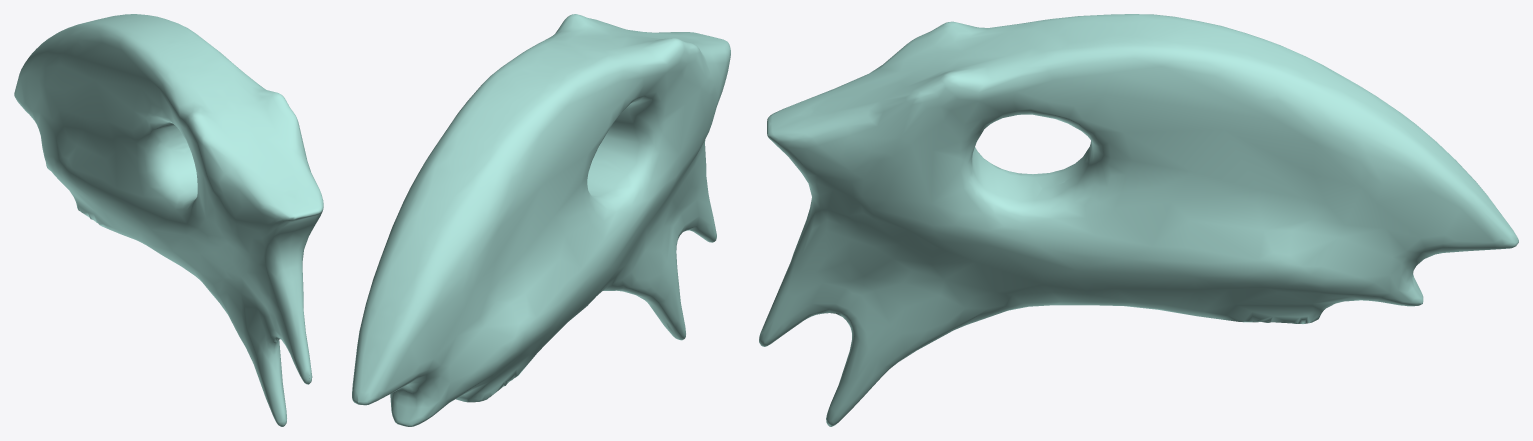
File: Diencephalon_Third ventricle.glb
3 renders of one model, left to right at view 1: azimuth 30°, elevation 25°; view 2: azimuth 150°, elevation 25°; view 3: azimuth 270°, elevation 25°, orthographic. The views are drawn at different scales.
Visible parts, largest first — view 1: Third ventricle; view 2: Third ventricle; view 3: Third ventricle.
Part boxes in pixels (x1,y1,x2,y2): Third ventricle: (14,14,323,426); Third ventricle: (352,14,730,426); Third ventricle: (759,14,1518,426).
Size of the model in its own units: 0.00757 by 0.0224 by 0.0389.
